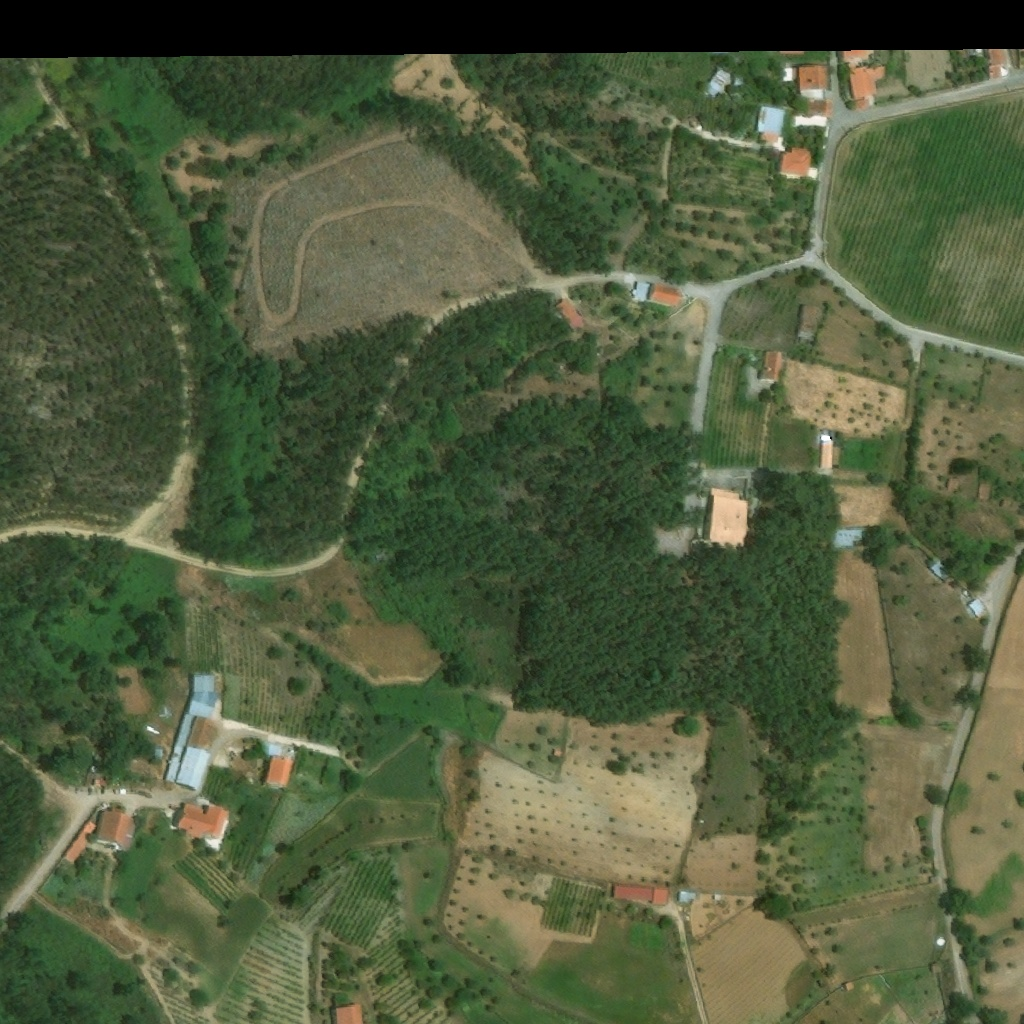0 no-damage: (160, 699, 215, 791), (703, 488, 749, 548), (171, 801, 231, 846), (94, 801, 138, 850), (848, 64, 889, 112), (260, 738, 294, 789), (61, 818, 97, 865), (777, 147, 820, 183), (755, 103, 787, 151), (630, 281, 684, 307), (791, 98, 833, 128), (613, 884, 669, 906), (984, 42, 1014, 81), (828, 525, 870, 552), (550, 295, 582, 328), (703, 67, 735, 100), (799, 65, 830, 99), (757, 350, 781, 383), (925, 558, 955, 583), (795, 305, 816, 338), (331, 1002, 363, 1023), (965, 596, 989, 619), (839, 43, 869, 61), (190, 674, 215, 695), (820, 440, 832, 470), (143, 744, 161, 759), (678, 891, 697, 902), (93, 778, 108, 787), (842, 982, 854, 992), (930, 963, 942, 973), (553, 749, 564, 758), (714, 894, 722, 901)
4 un-classified: (779, 44, 805, 55), (968, 42, 983, 57), (753, 44, 777, 53), (711, 44, 730, 54)
